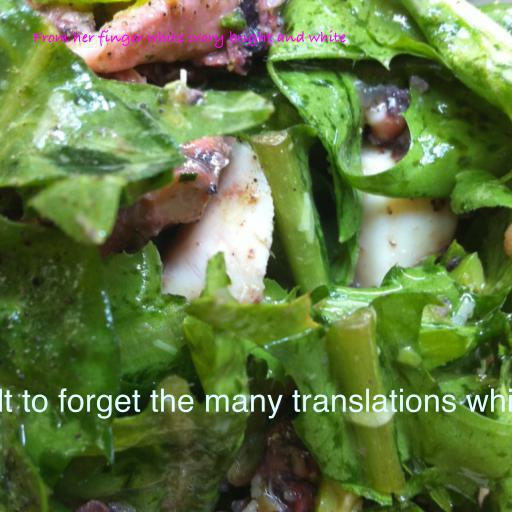Bradley Hand: (32, 30, 346, 48)
Helvetica: (0, 388, 512, 419)
